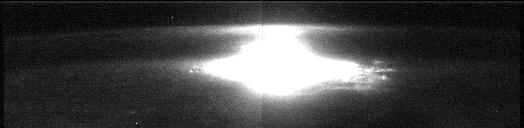negative: (234, 24, 310, 38)
